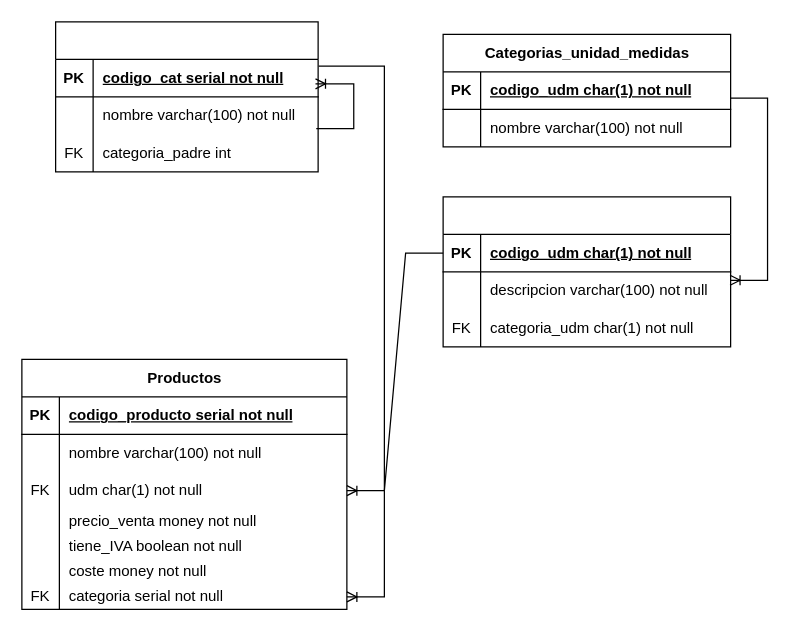
This 800x631 diagram has some shape labels left out. Each missing label, with the box of its shape:
Categorias: (54, 21, 318, 172)
unidades_medida: (442, 196, 731, 347)
